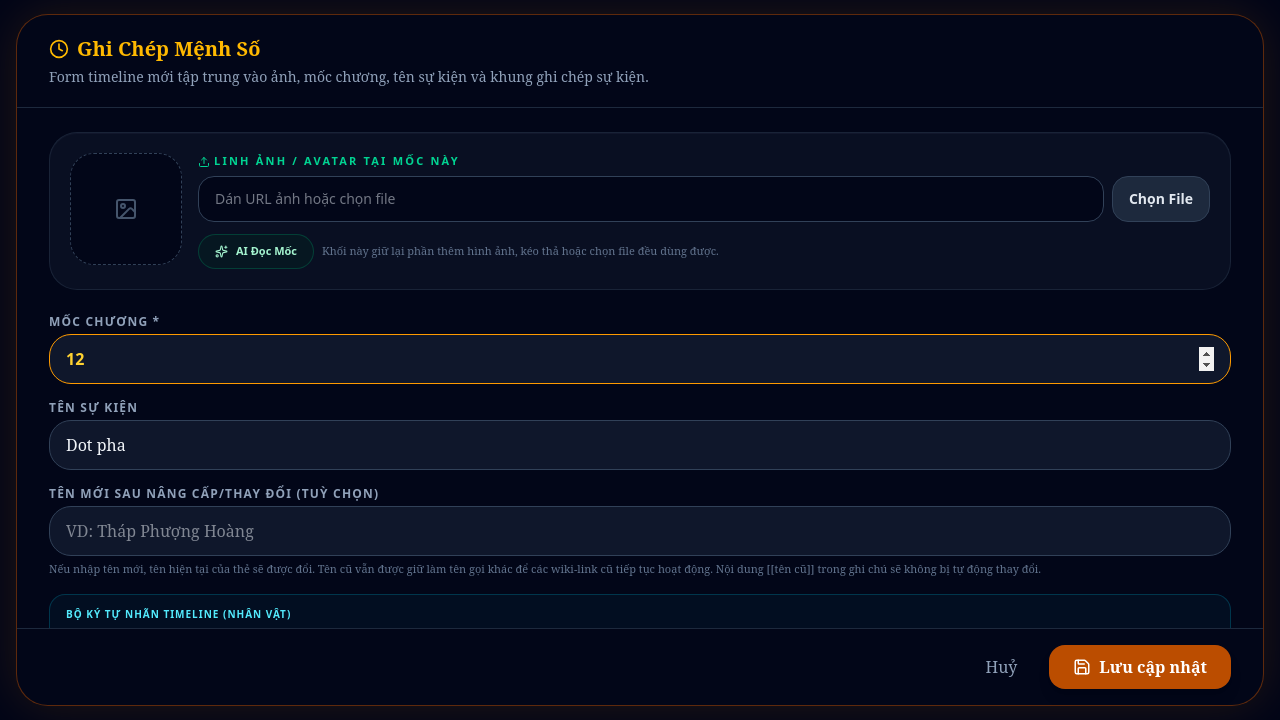
ModalMilestone save does not rewrap the event body › keeps an existing wiki link that the user did not remove
The width and height of the screenshot is (1280, 720).
Click the button "Lưu cập nhật": [1140, 667] box [1049,645,1231,689]
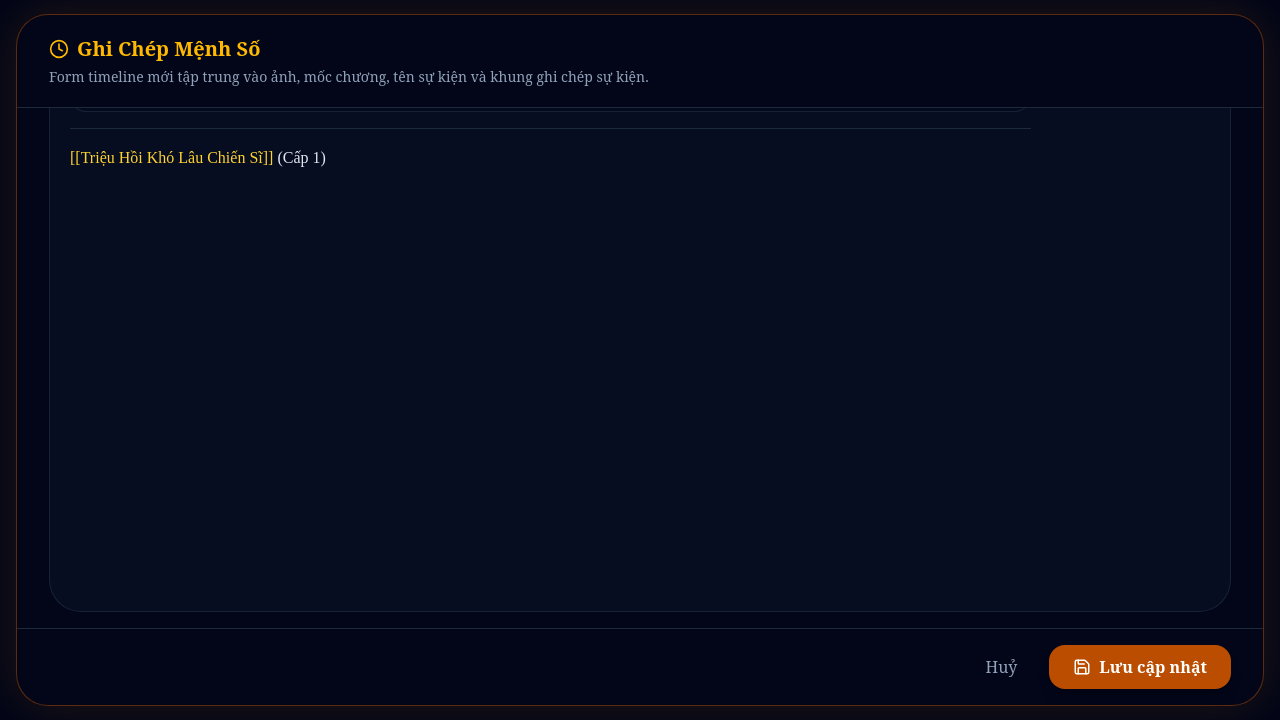
Check: the element showing "[ [Triệu Hồi Khó Lâu Chiến Sĩ]] (Cấp 1)" is shown, box [70,149,326,166]
